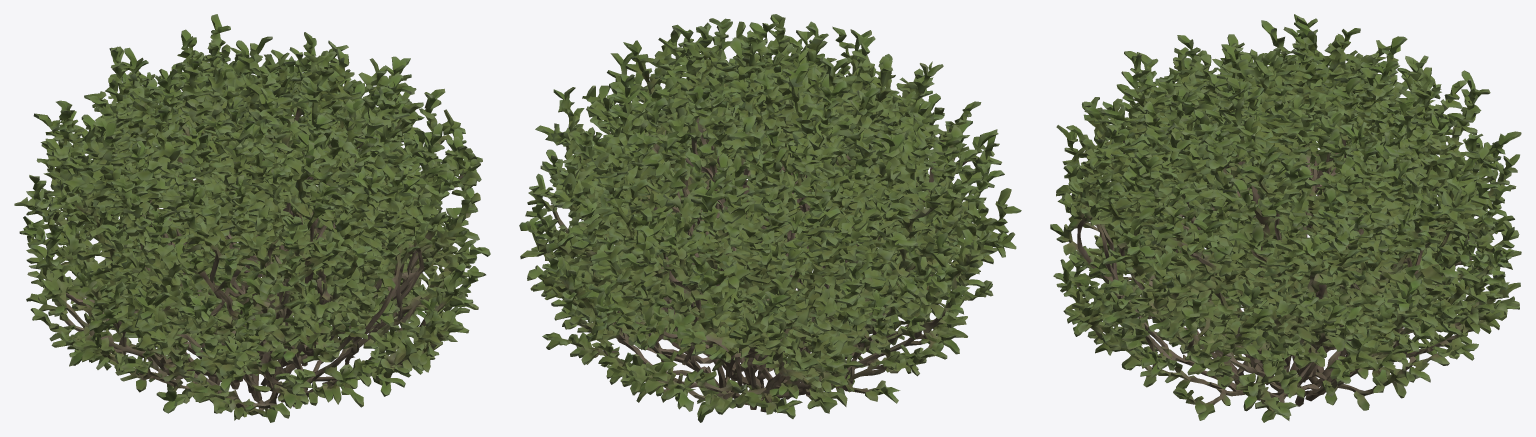
Rendered from task-4897090.glb.
3 views of the same model, side by side, from view 1: azimuth 30°, elevation 25°; view 2: azimuth 150°, elevation 25°; view 3: azimuth 270°, elevation 25° (orthographic).
Visible parts, largest first — view 1: world; view 2: world; view 3: world.
Boxes of the visible parts, box(x1,y1,x2,y2) form: world: box(14, 14, 490, 422); world: box(519, 14, 1021, 422); world: box(1050, 14, 1521, 422).
Bounding box in the file's own units: 0.8 × 0.6521 × 0.8013.
Materials: 1 (1 with a texture image).
